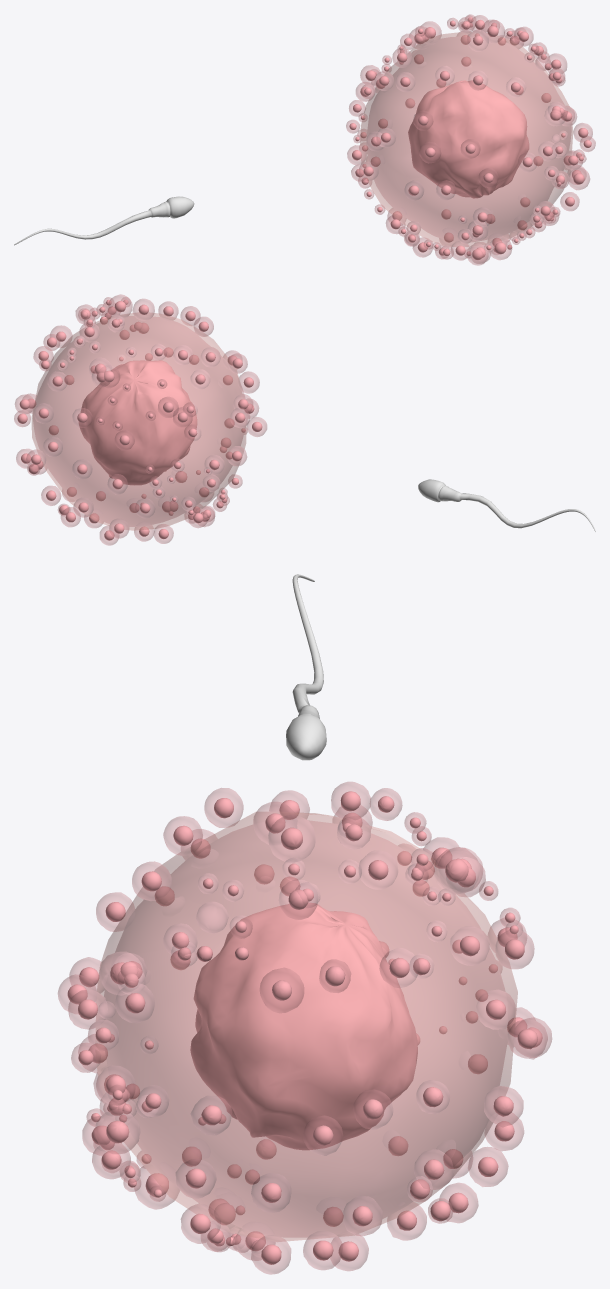
The model's file is Sperm01.glb.
The picture shows the model from 3 angles, top to bottom: view 1: azimuth 30°, elevation 25°; view 2: azimuth 150°, elevation 25°; view 3: azimuth 270°, elevation 25°; orthographic projection. The views are drawn at different scales.
Visible parts, largest first — view 1: cytoplasm, Sphere008, follicular cells, Nucleus, Sperm cell; view 2: cytoplasm, Sphere008, follicular cells, Nucleus, Sperm cell; view 3: cytoplasm, Sphere008, follicular cells, Nucleus, Sperm cell.
Part boxes in pixels (box(x1,y1,x2,y2)): cytoplasm: box(360, 32, 572, 246); Sphere008: box(366, 37, 571, 241); follicular cells: box(346, 14, 595, 265); Nucleus: box(408, 80, 529, 198); Sperm cell: box(14, 196, 194, 245); cytoplasm: box(32, 312, 246, 530); Sphere008: box(33, 316, 247, 526); follicular cells: box(14, 294, 266, 545); Nucleus: box(79, 360, 197, 485); Sperm cell: box(418, 479, 595, 531); cytoplasm: box(95, 812, 517, 1241); Sphere008: box(104, 820, 508, 1237); follicular cells: box(58, 782, 551, 1274); Nucleus: box(190, 902, 417, 1150); Sperm cell: box(286, 574, 326, 760).
Bounding box in the file's own units: 2 × 0.7651 × 0.7615.
